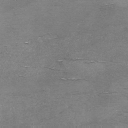finishing roll printing: (64, 57, 94, 64), (60, 78, 84, 80), (98, 61, 108, 64), (18, 74, 23, 77), (25, 41, 29, 44), (57, 60, 62, 62), (25, 66, 30, 68)
